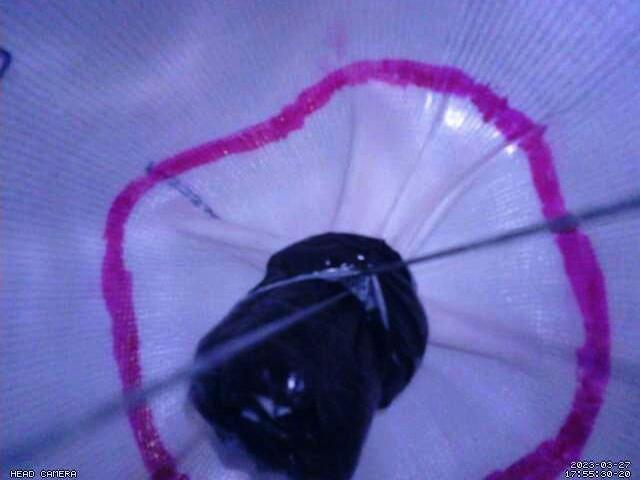red-circle: (99, 56, 614, 480)
